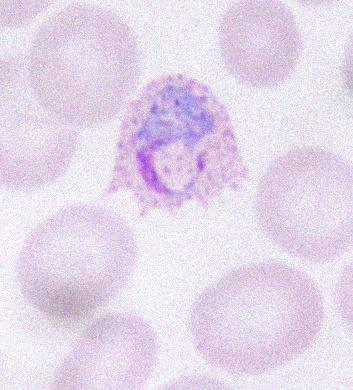Infected: (108, 71, 251, 224)
Uninfected: (193, 259, 324, 376), (30, 0, 139, 127), (16, 208, 137, 321), (255, 145, 353, 261), (0, 53, 82, 191), (53, 313, 155, 390), (218, 1, 303, 89)
